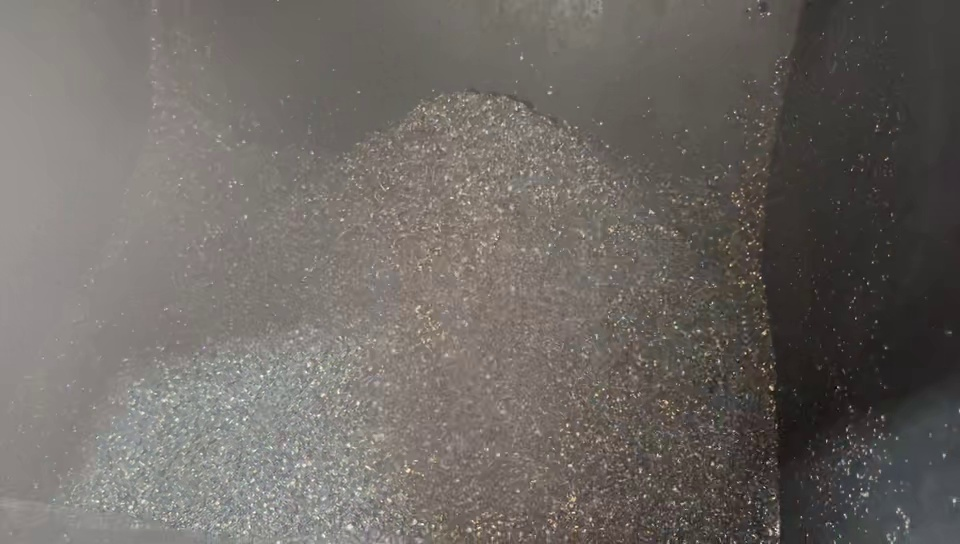iron_scrap: (17, 368, 777, 538), (311, 200, 772, 364), (138, 98, 307, 360), (324, 102, 649, 195)
